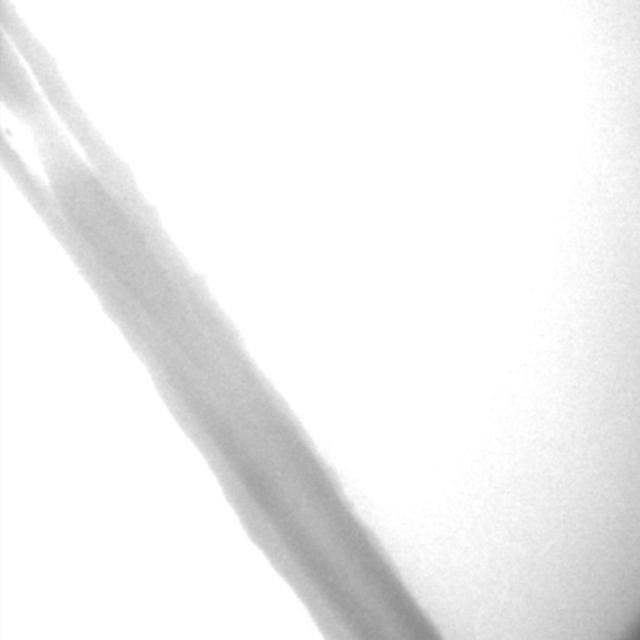unfused: (0, 24, 103, 214)
